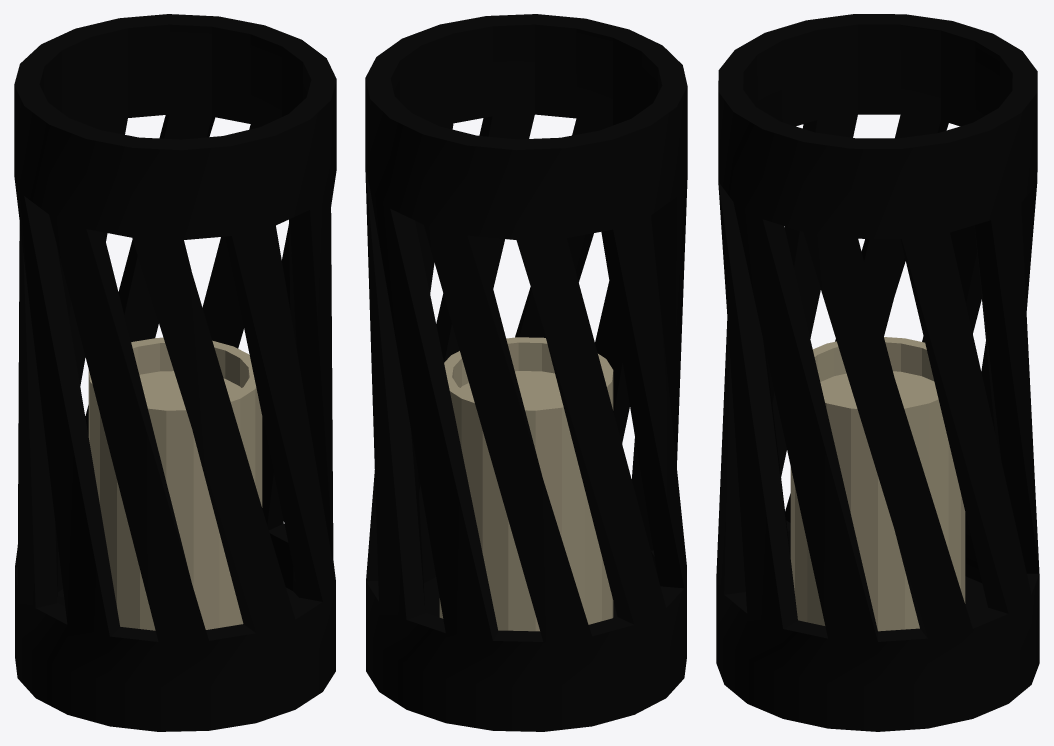
Rendered from Torch.fbx.
3 views of the same model, side by side, from view 1: azimuth 30°, elevation 25°; view 2: azimuth 150°, elevation 25°; view 3: azimuth 270°, elevation 25° (orthographic).
Parts seen in each view (by area): view 1: pCylinder3; view 2: pCylinder3; view 3: pCylinder3.
Part boxes in pixels (x1,y1,x2,y2): pCylinder3: (14, 14, 336, 731); pCylinder3: (365, 14, 687, 731); pCylinder3: (716, 14, 1039, 731).
Bounding box in the file's own units: 2 × 3.98 × 2.
